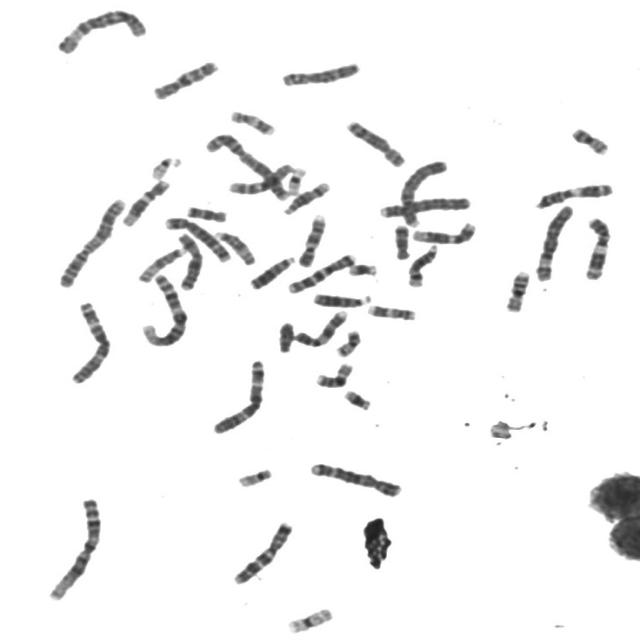A1: (43, 492, 104, 602), (136, 270, 190, 348)
A2: (53, 192, 129, 290), (200, 128, 293, 202)
A3: (208, 355, 268, 435), (65, 297, 113, 385)
B4: (395, 154, 450, 229), (375, 192, 472, 218)
B5: (306, 458, 404, 499), (159, 212, 233, 264)
C10: (148, 56, 222, 101), (224, 158, 298, 196)
C11: (530, 178, 616, 211), (580, 212, 613, 282)
C12: (118, 175, 172, 228), (408, 218, 478, 245)
C6: (52, 4, 149, 56), (532, 200, 576, 282)
C7: (228, 517, 296, 586), (284, 250, 358, 294)
C8: (341, 116, 408, 168), (278, 56, 362, 88)
C9: (290, 306, 350, 348), (294, 210, 329, 268)
D13: (245, 251, 298, 291), (309, 289, 373, 308)
D14: (278, 178, 332, 216), (403, 241, 440, 288)
D15: (133, 242, 188, 284), (212, 226, 258, 266)
E16: (501, 266, 532, 314), (311, 358, 356, 389)
E17: (226, 106, 278, 137), (364, 301, 418, 322)
E18: (182, 201, 228, 223), (390, 220, 413, 261)
F19: (282, 604, 336, 634), (282, 163, 310, 195)
F20: (567, 123, 612, 156), (332, 326, 364, 358)
G21: (339, 386, 374, 411), (344, 259, 379, 277)
G22: (233, 464, 275, 489), (147, 152, 184, 180)
X: (172, 229, 205, 292)
Y: (274, 318, 296, 354)
